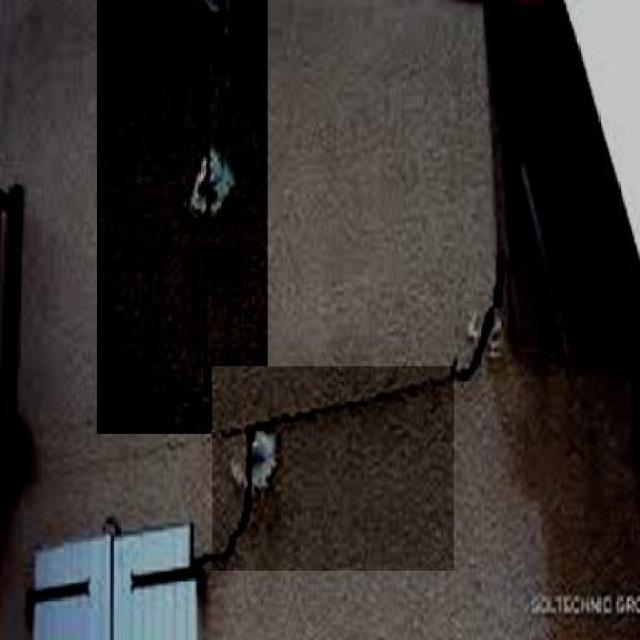Crack: (115, 0, 247, 436), (257, 376, 443, 434), (212, 448, 258, 598), (52, 441, 170, 478)
